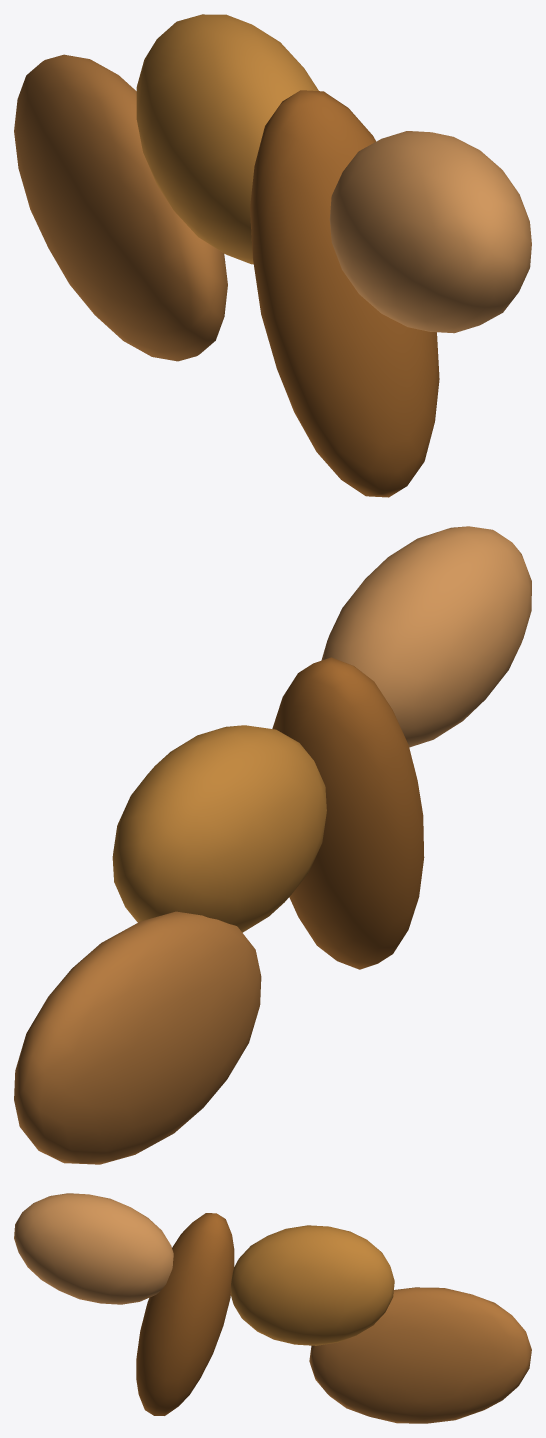
File: Fox_032B_ellip.glb
3 renders of one model, top to bottom at view 1: azimuth 30°, elevation 25°; view 2: azimuth 150°, elevation 25°; view 3: azimuth 270°, elevation 25°, orthographic. The views are drawn at different scales.
Size of the model in its own units: 0.3566 by 0.8574 by 1.82.
